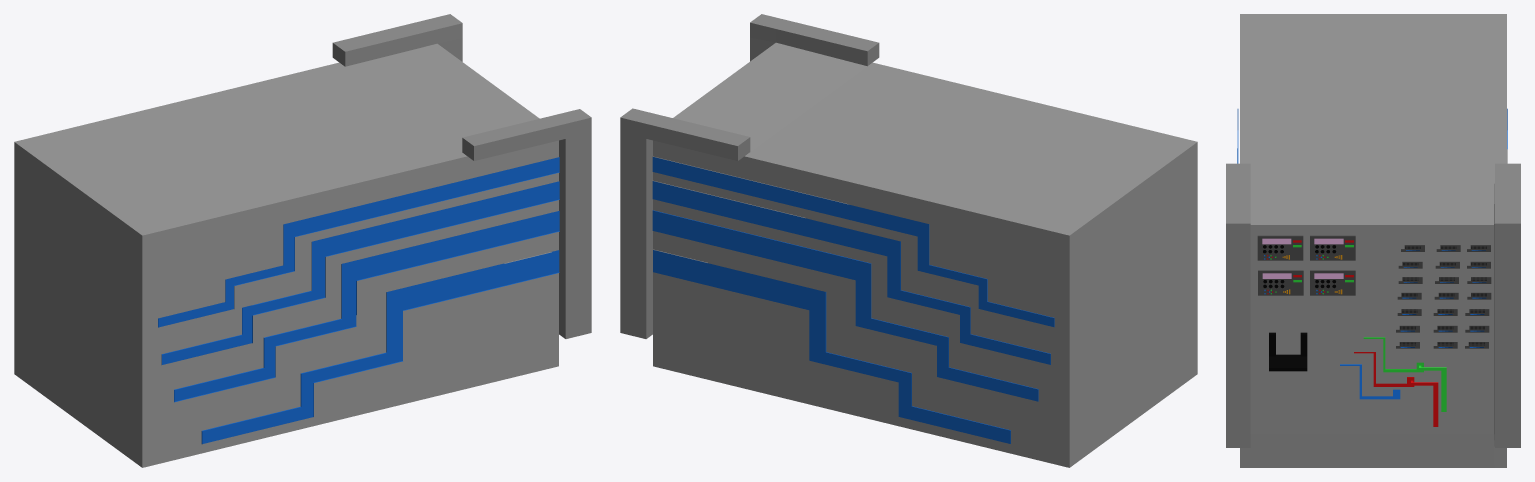
The model's file is MegaComputer2.fbx.
3 views of the same model, side by side, from view 1: azimuth 30°, elevation 25°; view 2: azimuth 150°, elevation 25°; view 3: azimuth 270°, elevation 25° (orthographic). The views are drawn at different scales.
Visible parts, largest first — view 1: Cube; view 2: Cube; view 3: Cube, Куб, Куб.001.
Boxes of the visible parts, left/top/right/bottom form: Cube: left=14, top=14, right=591, bottom=467; Cube: left=620, top=14, right=1197, bottom=467; Cube: left=1226, top=14, right=1520, bottom=467; Куб: left=1419, top=365, right=1446, bottom=411; Куб.001: left=1411, top=380, right=1438, bottom=426.
Size of the model in its own units: 529 by 282 by 292.
